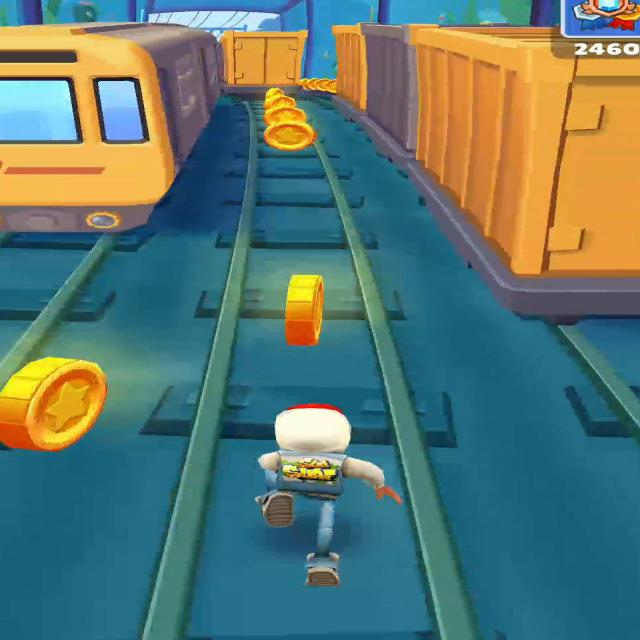train: (333, 24, 639, 317), (0, 22, 224, 233), (221, 31, 306, 87)
